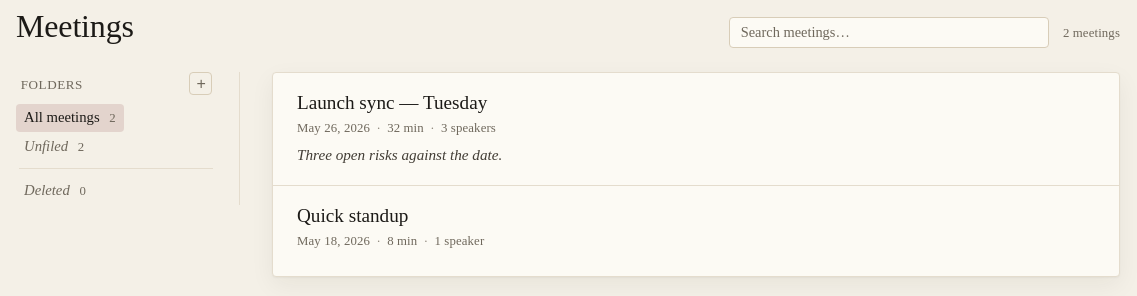
Test: MeetingList row context menu (#0034 meeting-list slice) › dismisses on Escape
Check: the button "Launch sync — Tuesday" is shown, box [297,92,487,114]
Right-click the list item "Quick standup" at (391, 226), box [297,205,484,248]
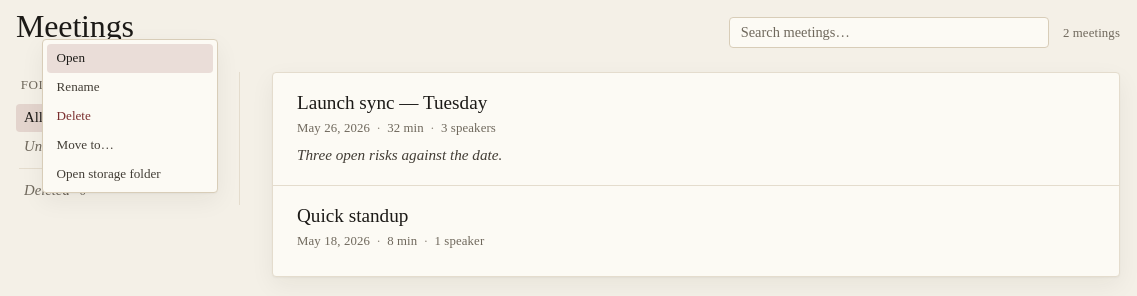
Check: the menu is shown, box [42,39,218,193]
Press Escape
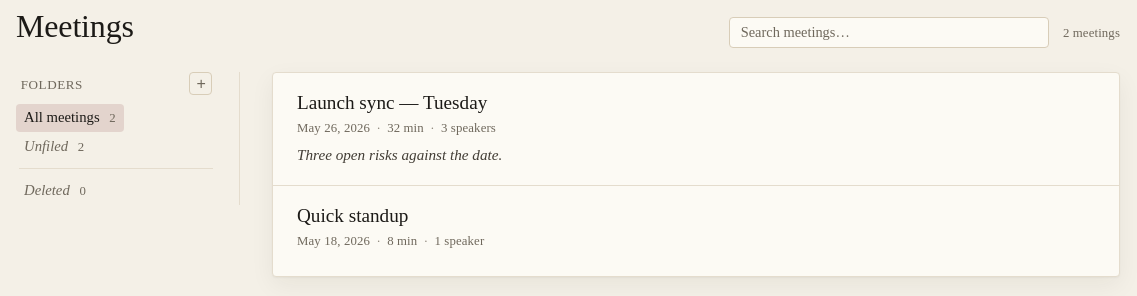
Check: the menu is gone
